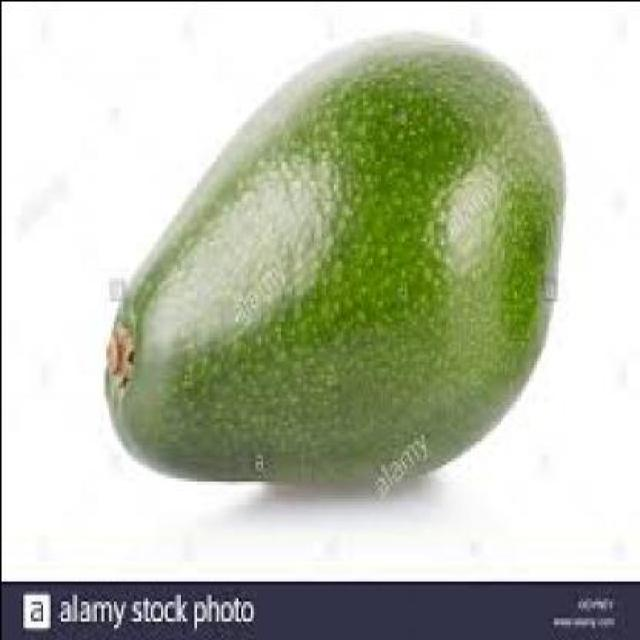BIODEGRADABLE: (106, 35, 562, 495)
